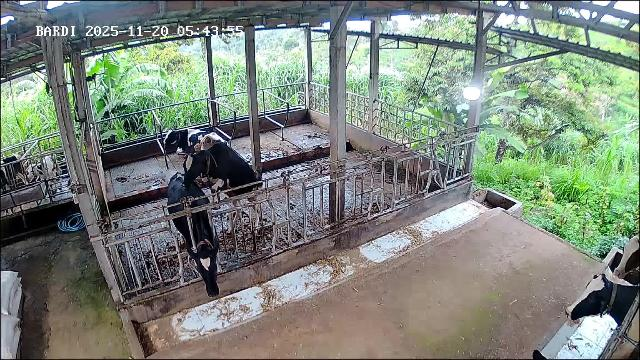mounting: (181, 139, 264, 234)
